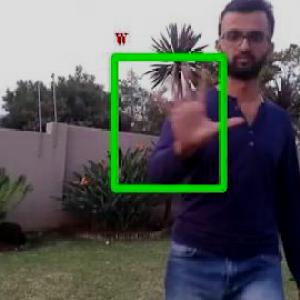follow_hand: (146, 53, 246, 153)
